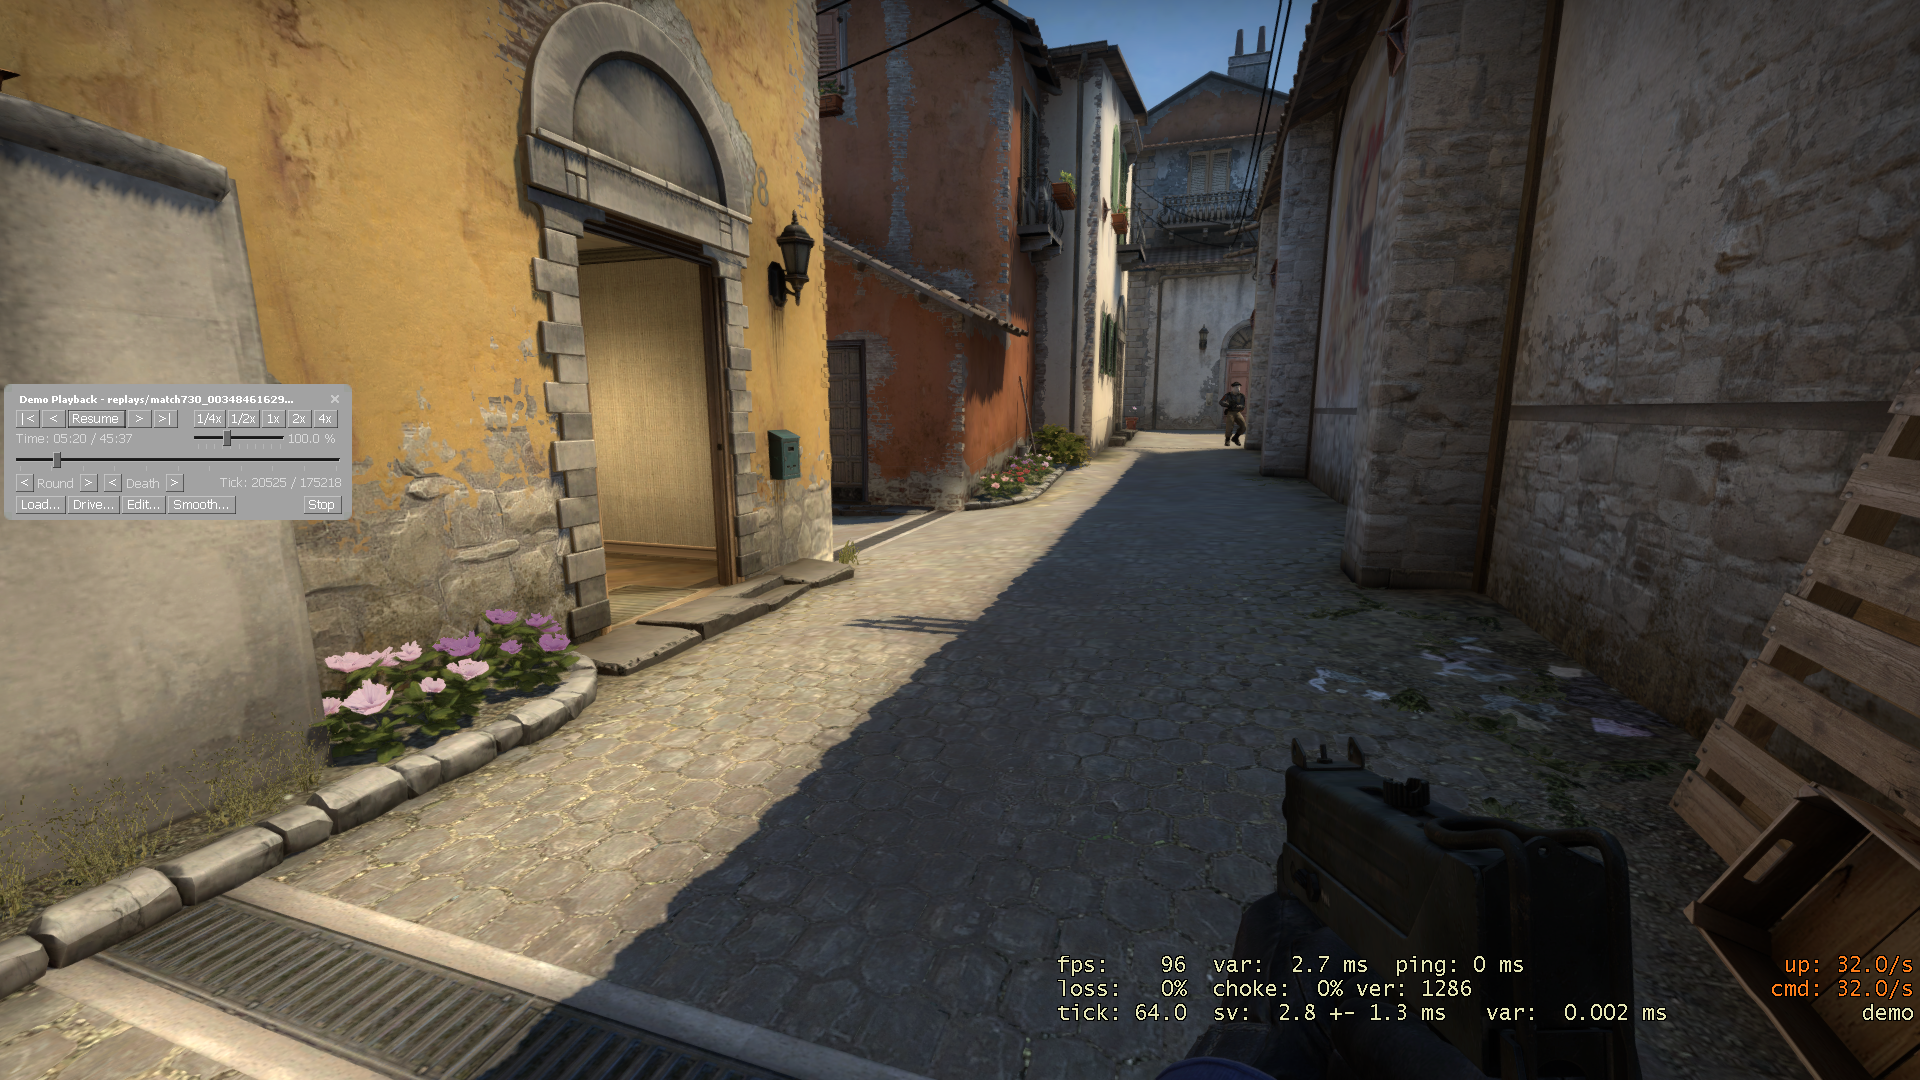t: (1220, 381, 1246, 448)
